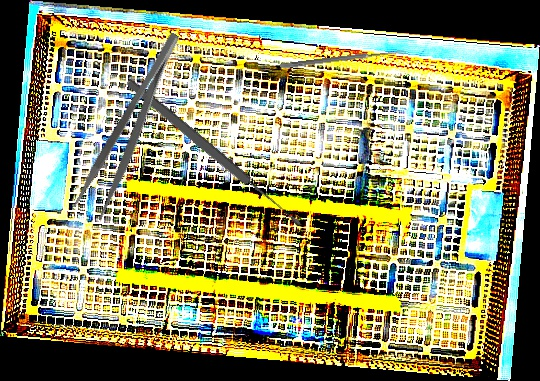Dressing Forceps: (70, 29, 199, 222)
Surgical Spoon: (123, 75, 305, 232), (280, 48, 406, 70)
